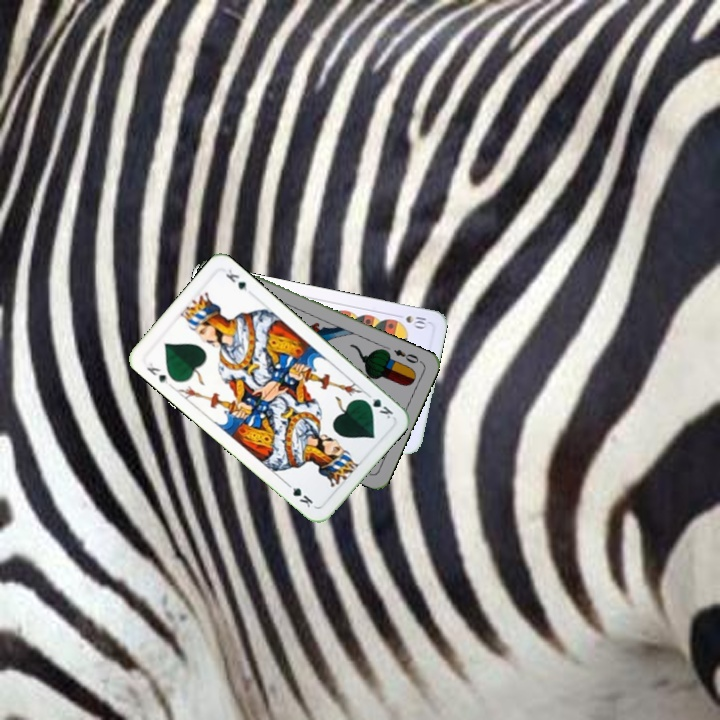EO: (390, 345, 424, 366)
GK: (359, 389, 396, 421), (143, 358, 174, 389)
S10: (391, 310, 429, 331)
